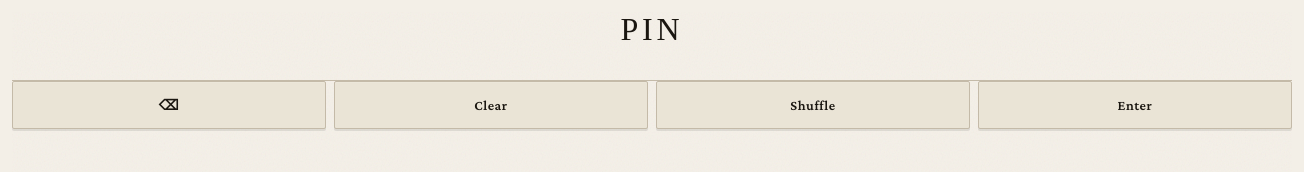
Scenario: WordDisplay error animation › adds shake class after an invalid submission
The width and height of the screenshot is (1304, 172).
Click the button with aria-label "Submit word".
click(1135, 105)  # box [978,81,1292,129]
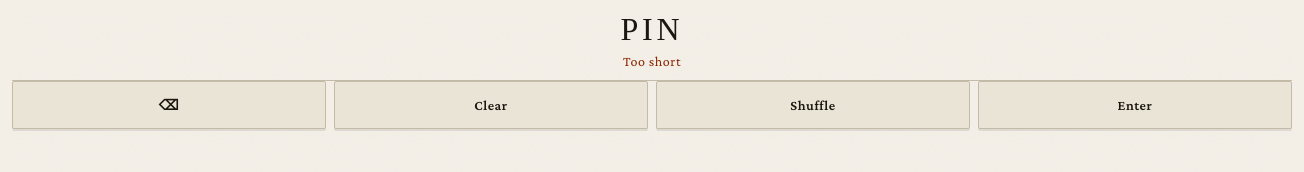
Now the message reads "Too short", box [623,53,681,69]
